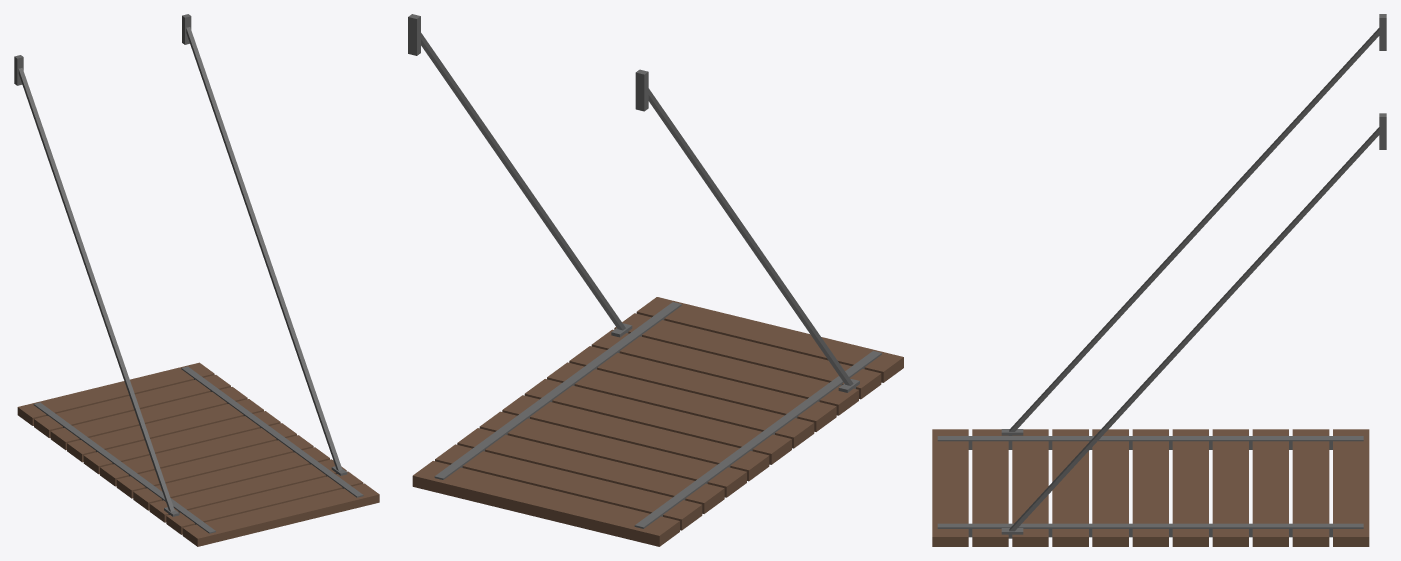
File: SPW_Medieval_Castle_03.glb
3 views of the same model, side by side, from view 1: azimuth 30°, elevation 25°; view 2: azimuth 150°, elevation 25°; view 3: azimuth 270°, elevation 25° (orthographic). The views are drawn at different scales.
Visible parts, largest first — view 1: SPW_Medieval_Castle_03; view 2: SPW_Medieval_Castle_03; view 3: SPW_Medieval_Castle_03.
Boxes of the visible parts, box(x1,y1,x2,y2) form: SPW_Medieval_Castle_03: box(14, 14, 379, 546); SPW_Medieval_Castle_03: box(408, 14, 903, 546); SPW_Medieval_Castle_03: box(932, 14, 1386, 546).
Size of the model in its own units: 2.8 by 5.18 by 4.99.
Materials: 1 (1 with a texture image).
